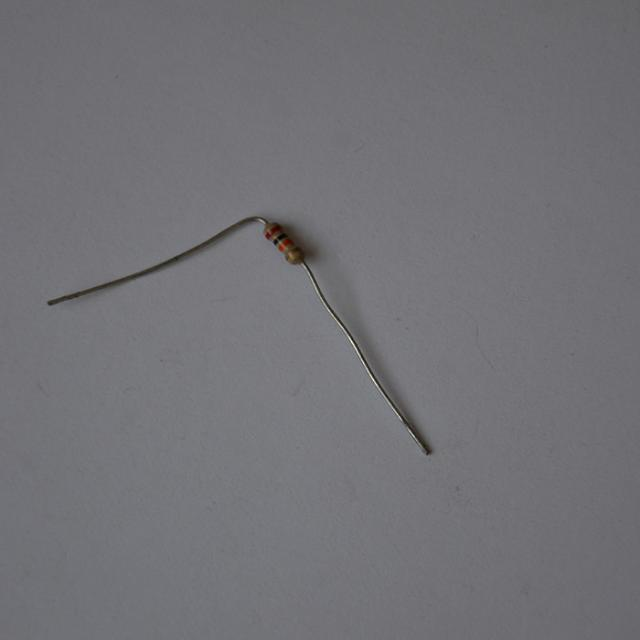black: (272, 234, 286, 245)
gold: (285, 247, 301, 261)
orange: (277, 238, 290, 250)
red: (264, 223, 281, 239)
resistor: (255, 216, 312, 273)
